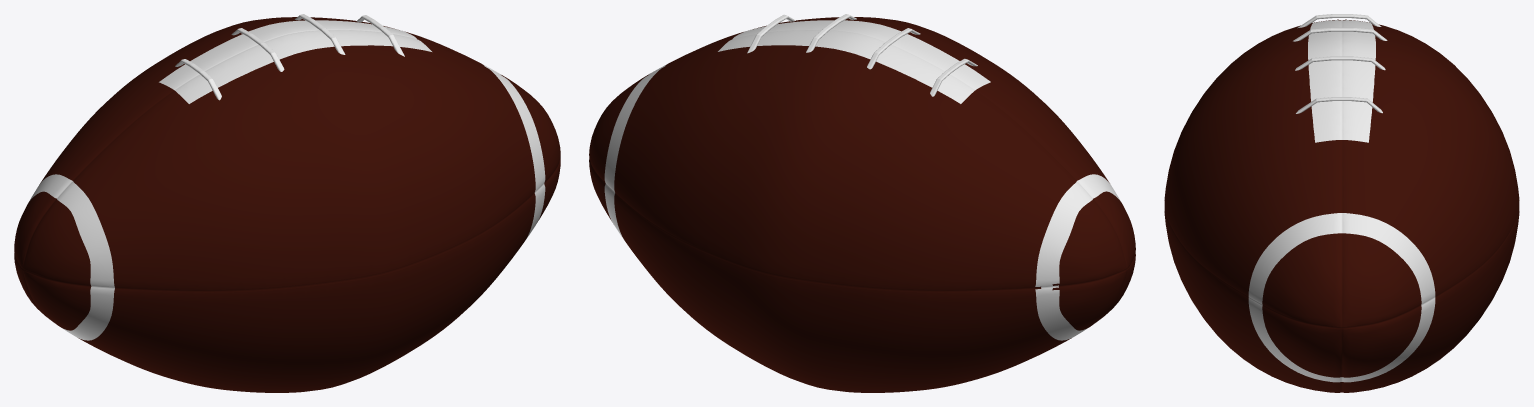
File: FOOTBALL.fbx
3 renders of one model, left to right at view 1: azimuth 30°, elevation 25°; view 2: azimuth 150°, elevation 25°; view 3: azimuth 270°, elevation 25°, orthographic. The views are drawn at different scales.
Visible parts, largest first — view 1: Cone.003, Cone.002; view 2: Cone.003, Cone.002; view 3: Cone.003, Cone.002.
Part boxes in pixels (x1,y1,x2,y2): Cone.003: [14, 17, 560, 392]; Cone.002: [175, 14, 404, 100]; Cone.003: [589, 17, 1135, 392]; Cone.002: [747, 14, 977, 96]; Cone.003: [1164, 19, 1519, 392]; Cone.002: [1293, 14, 1387, 113].
Bounding box in the file's own units: 393 × 245 × 243.
